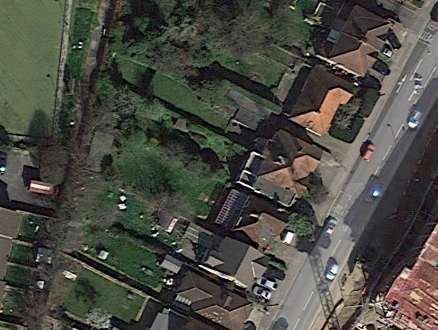tree: (185, 65, 233, 103), (155, 131, 195, 170), (281, 207, 317, 239)
